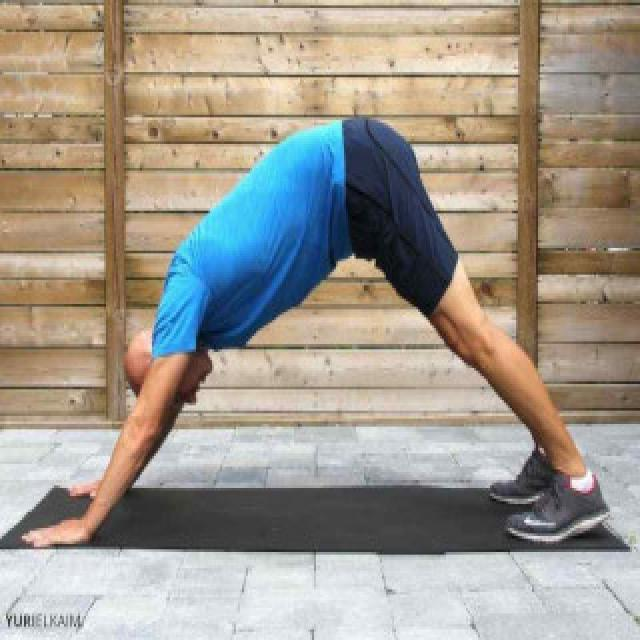yoga-pose downward: (24, 114, 614, 545)
